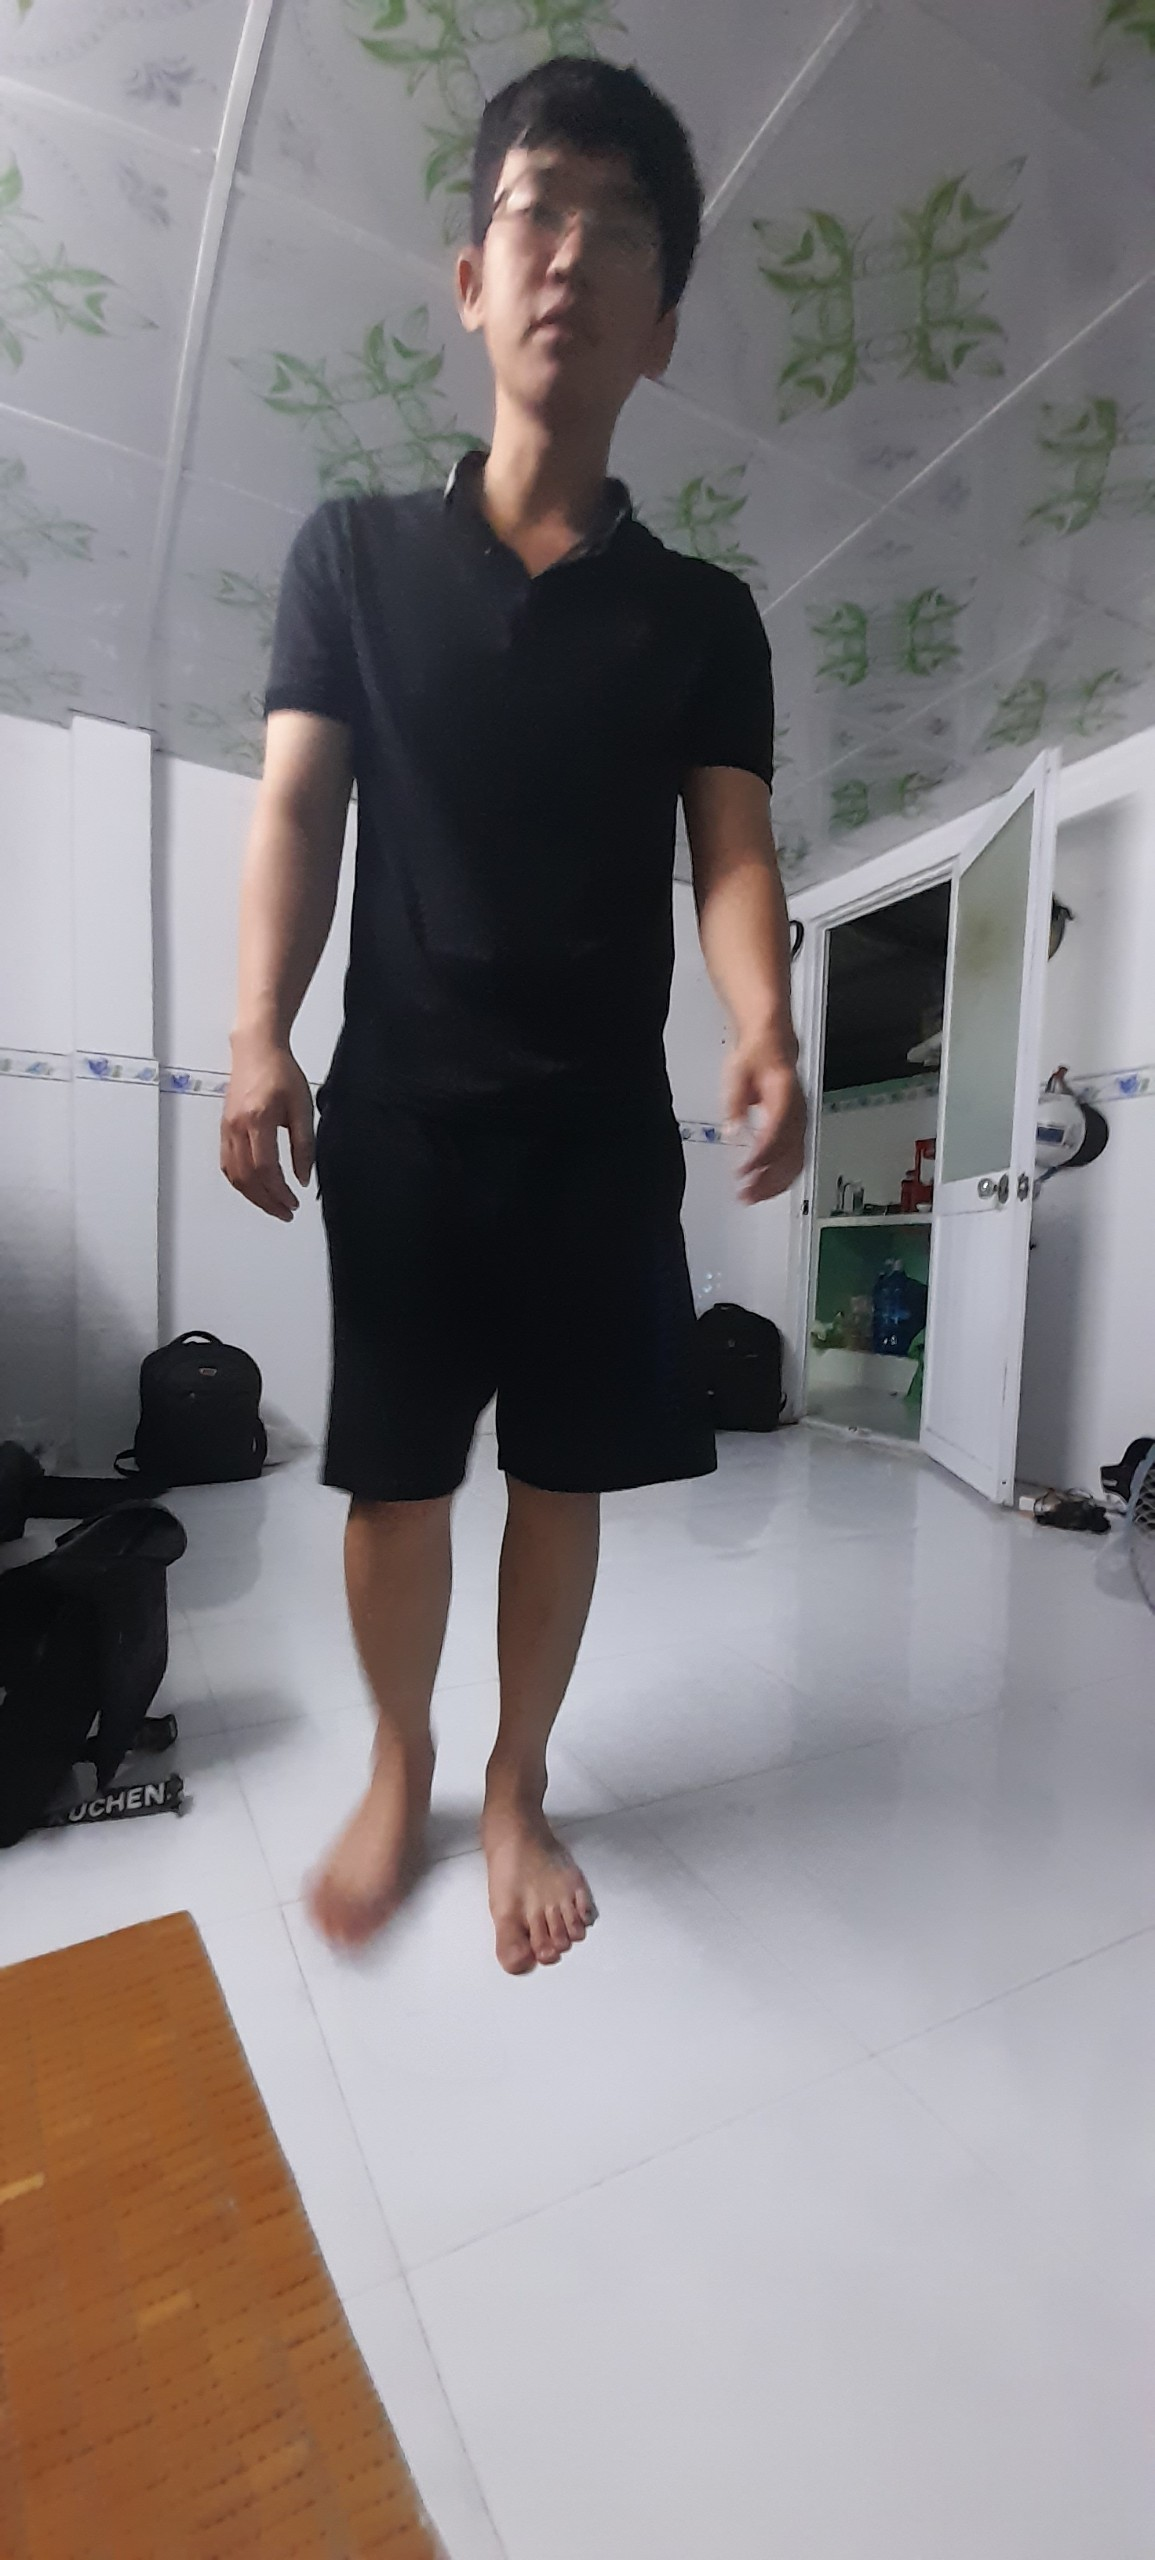person: (265, 57, 784, 1987)
